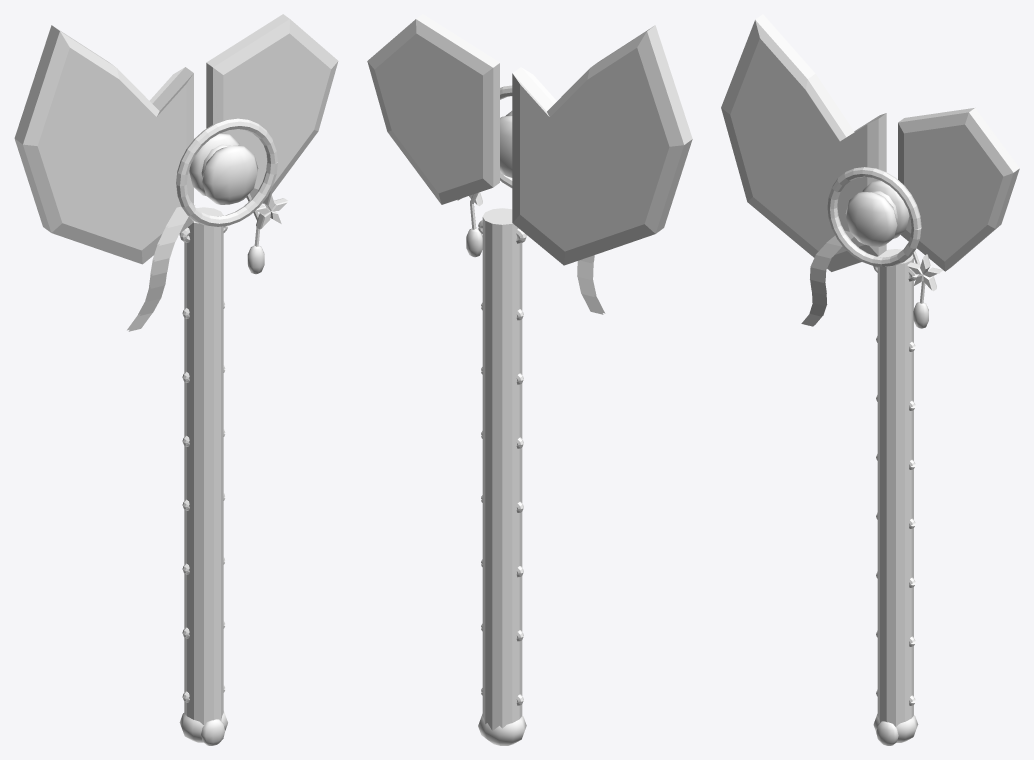
Rendered from axe.obj.
3 renders of one model, left to right at view 1: azimuth 30°, elevation 25°; view 2: azimuth 150°, elevation 25°; view 3: azimuth 330°, elevation 25°, orthographic. The views are drawn at different scales.
Size of the model in its own units: 0.4625 by 1.05 by 0.1122.
